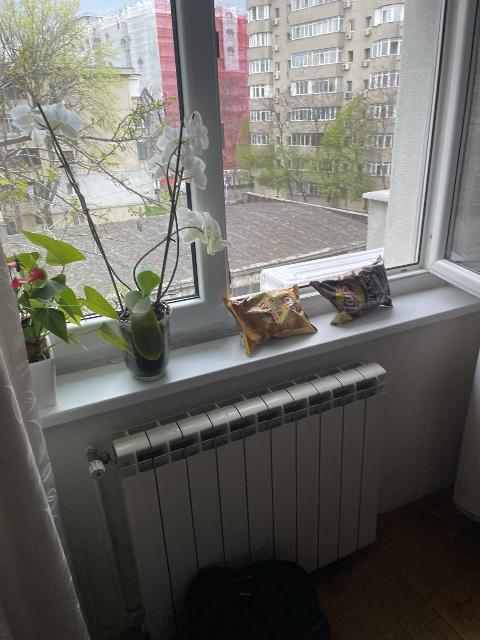Chio Hula Hoops Cheese 70g: (224, 285, 318, 355)
Lays Beef Grilled Ribs 125g: (309, 257, 391, 324)
